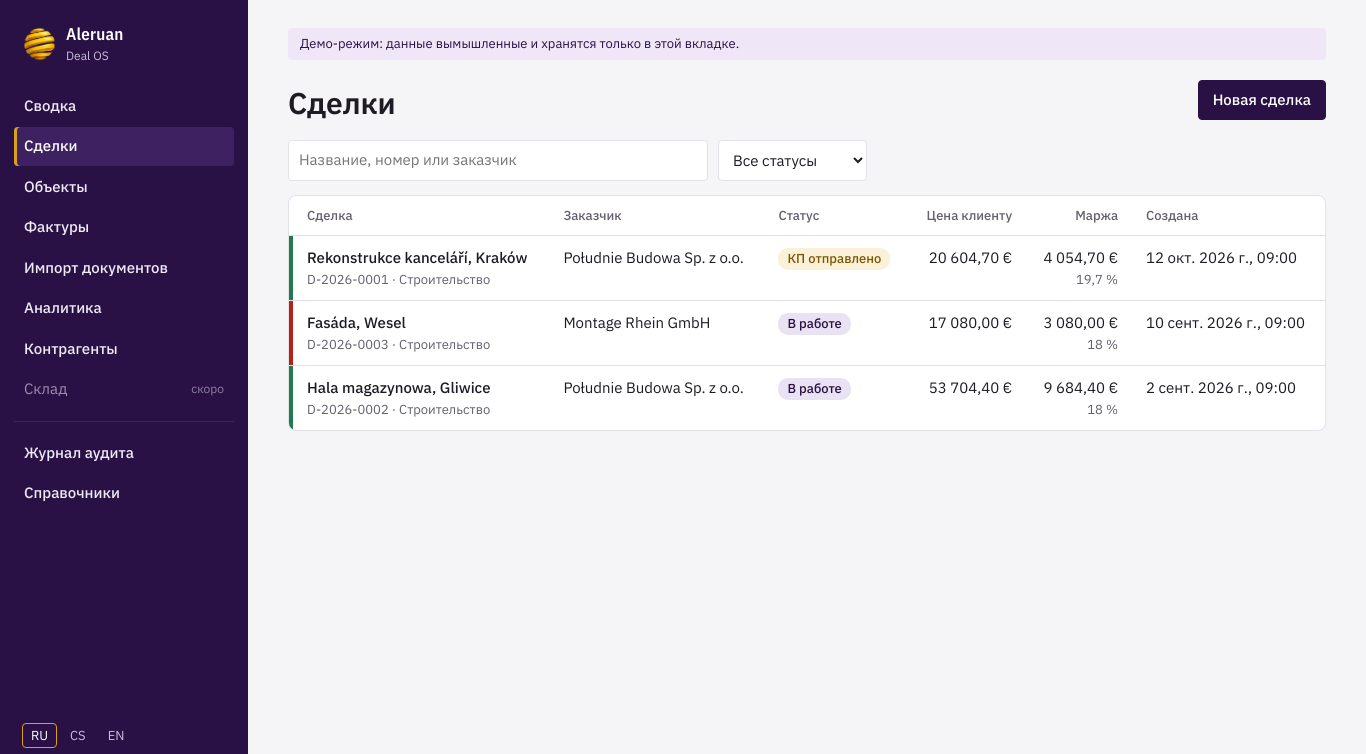
Test: deal screens › adds a line with a live preview of price and margin
The image size is (1366, 754).
Click the link "Rekonstrukce kanceláří, Kraków": (417, 258) [307,248,527,267]
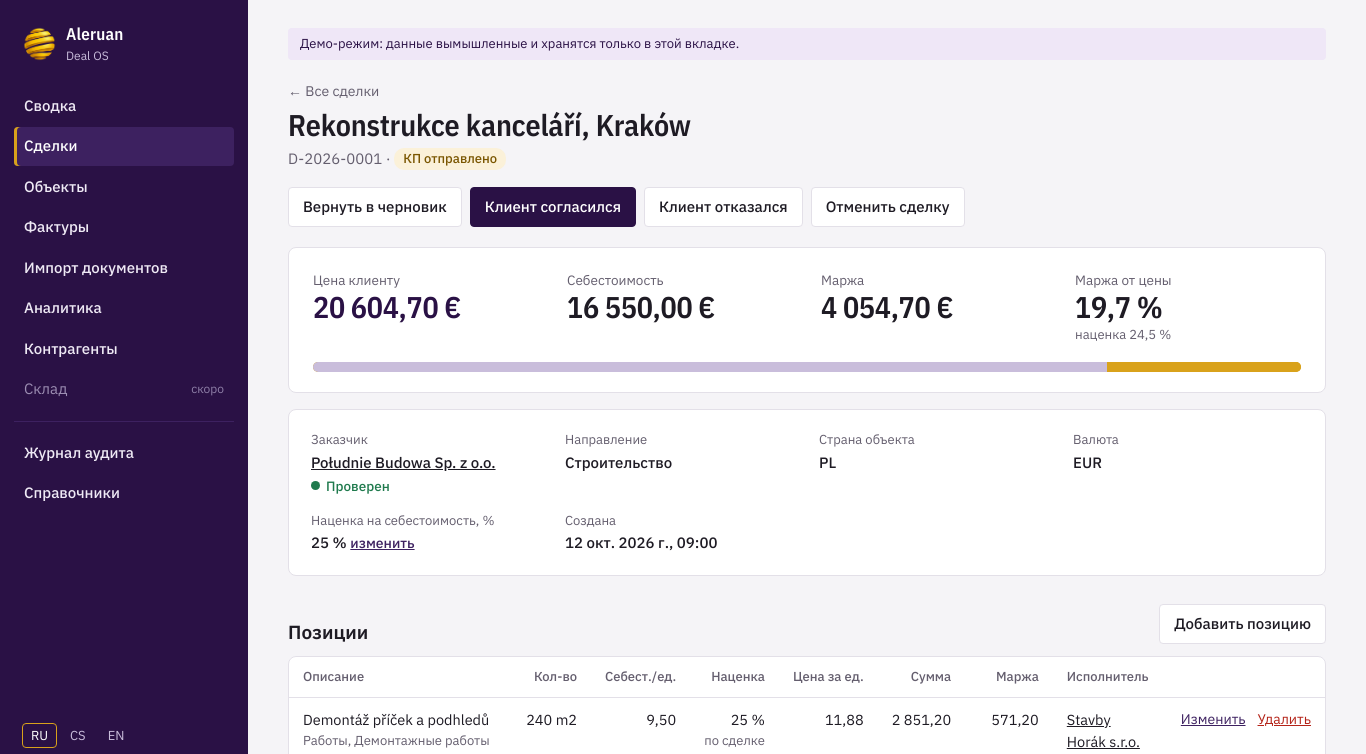
Click the button "Добавить позицию": (1243, 624) [1159,604,1326,644]
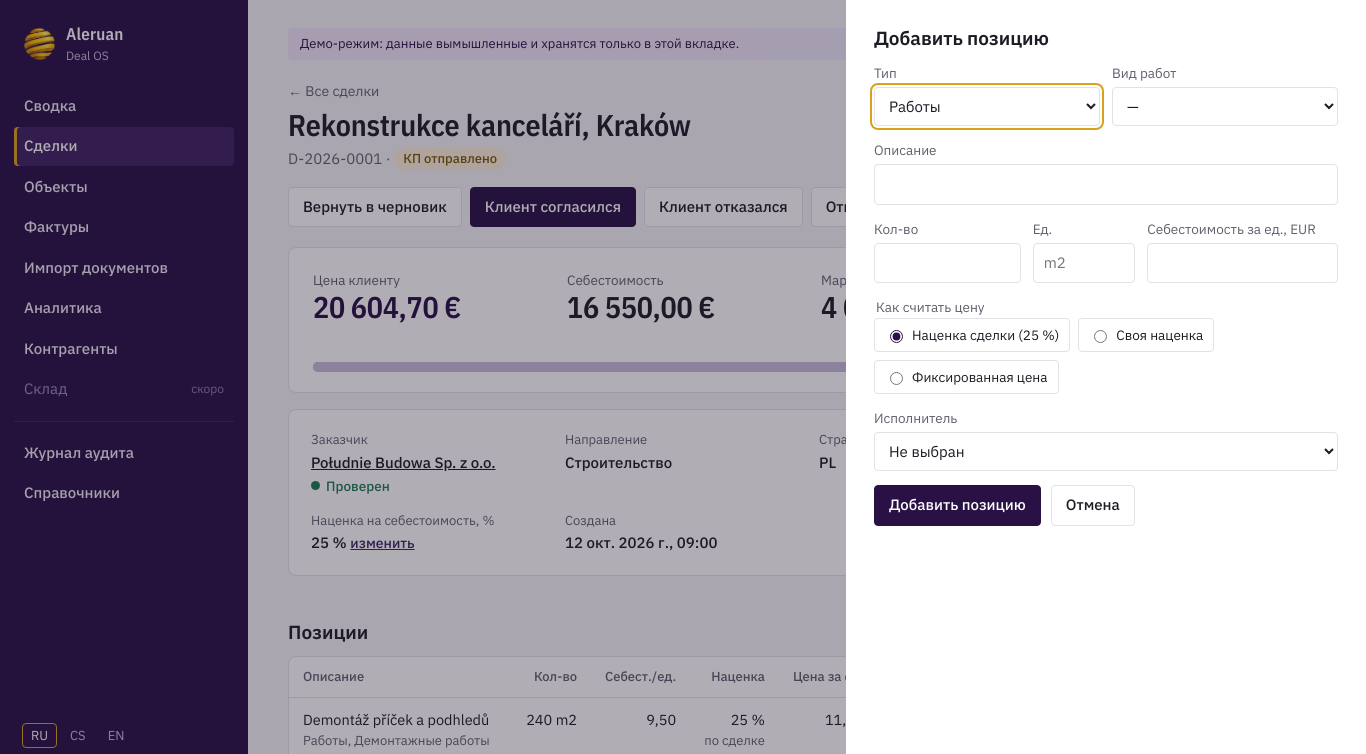
In the field labelled "Описание": (1106, 184) [874,164,1338,205], type "Malování"
In the field labelled "Кол-во": (947, 263) [874,243,1021,283], type "200"
In the field labelled "Себестоимость за ед., EUR": (1243, 263) [1147,243,1338,283], type "4"
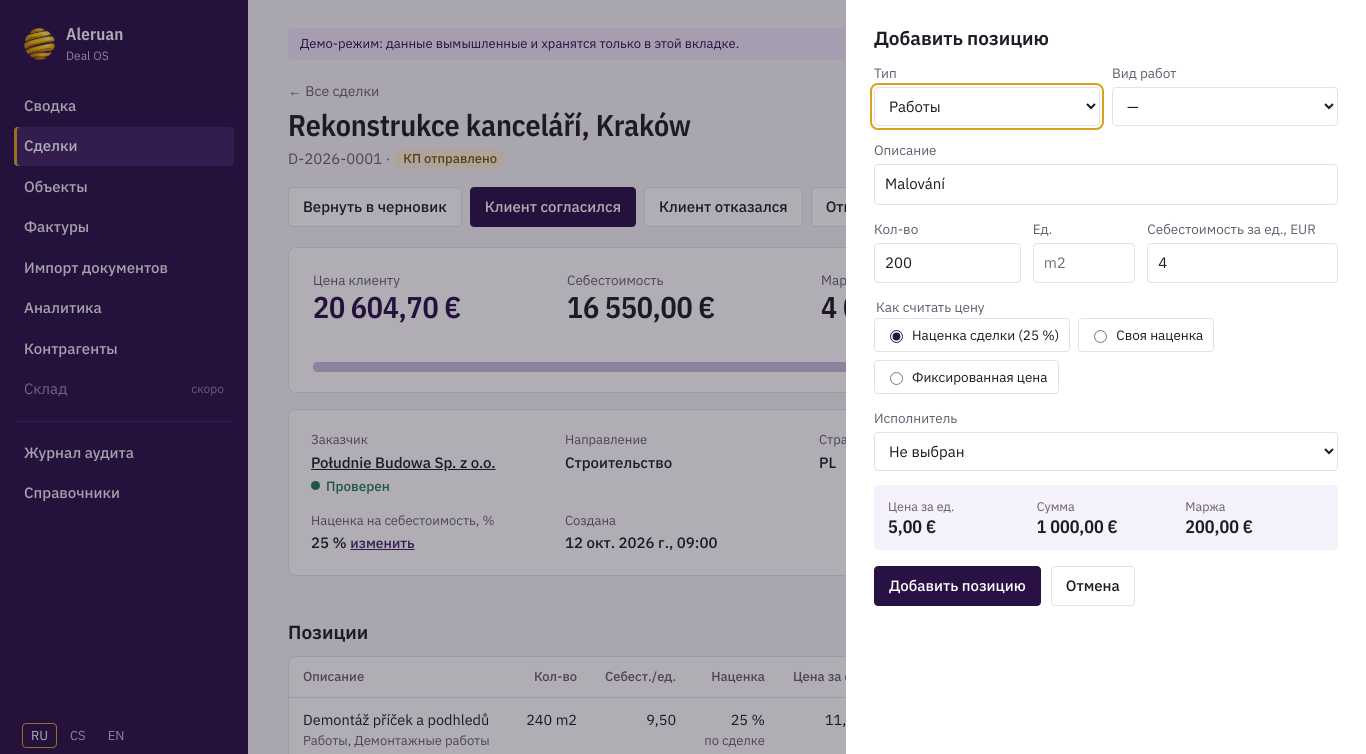
Check: the text "1 000,00 €" is shown, box [1037,515,1118,538]
Click the radio button labelled "Фиксированная цена": (896, 379) [890,372,903,385]
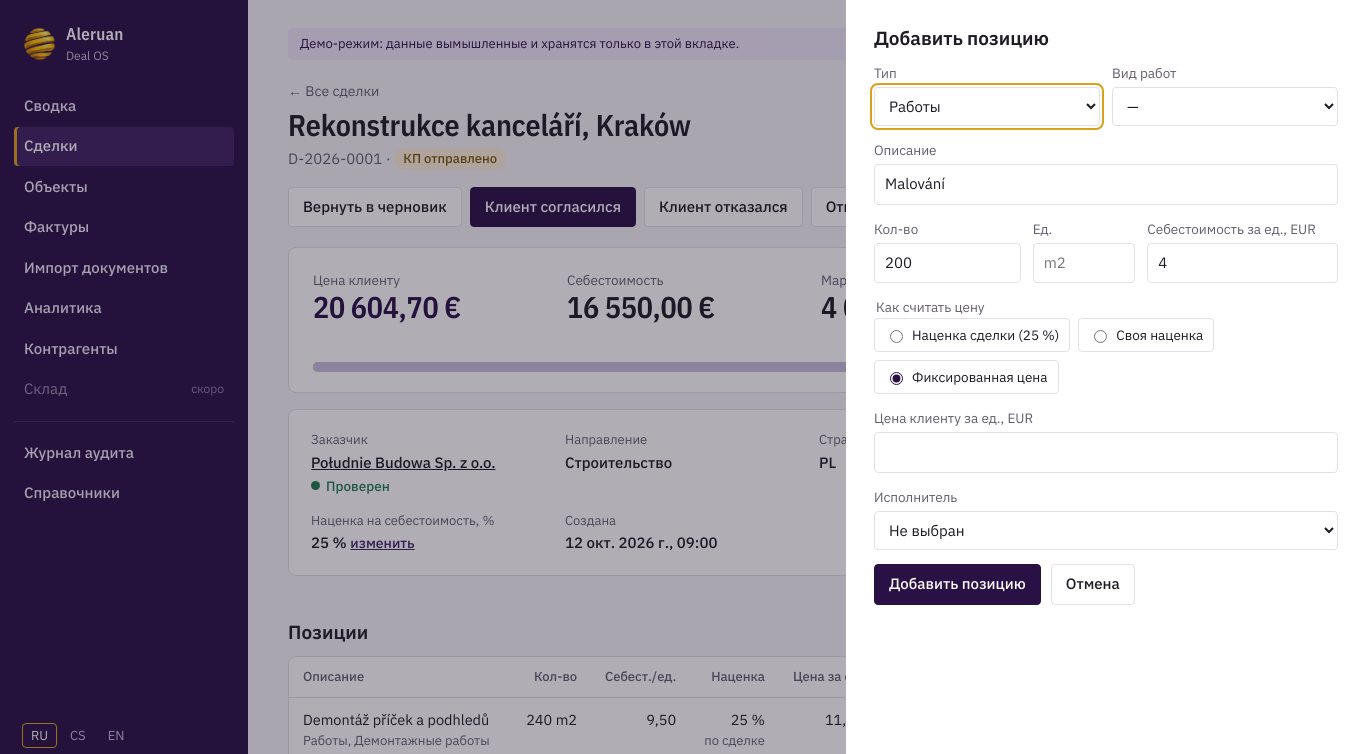
In the field labelled "Цена клиенту за ед., EUR": (1106, 453) [874,432,1338,473], type "3,5"
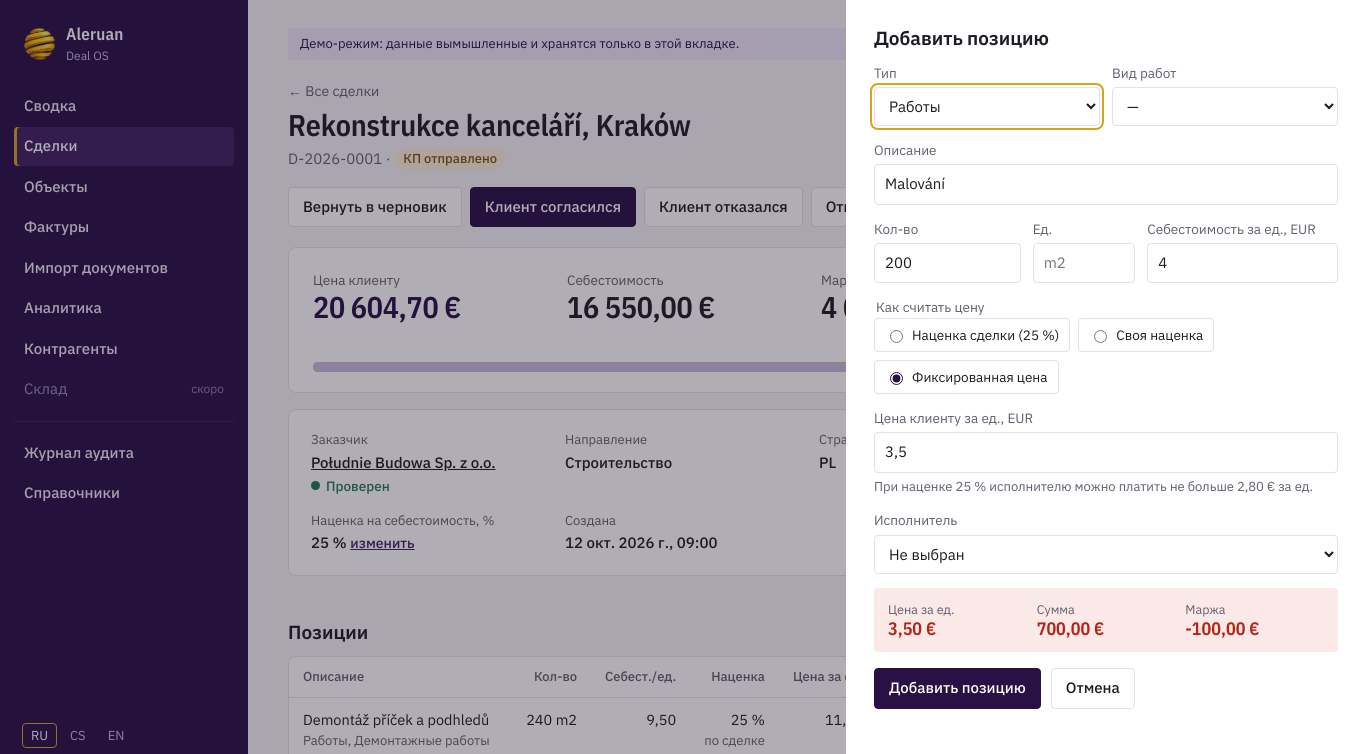
Check: the text "не больше 2,80" is shown, box [874,478,1313,495]
Click the button "Добавить позицию": (957, 688) [874,668,1041,708]
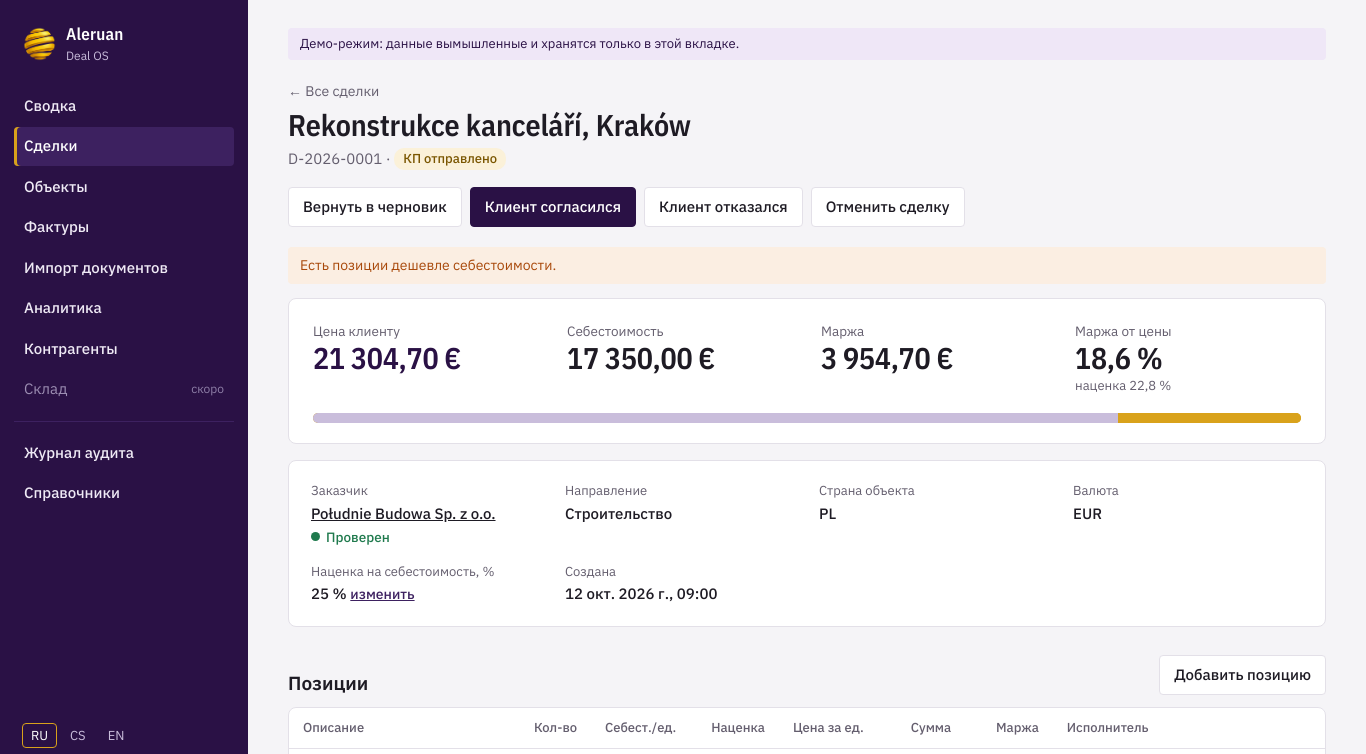
Check: the list item "Есть позиции дешевле себестоимости." is shown, box [288,247,1326,284]
